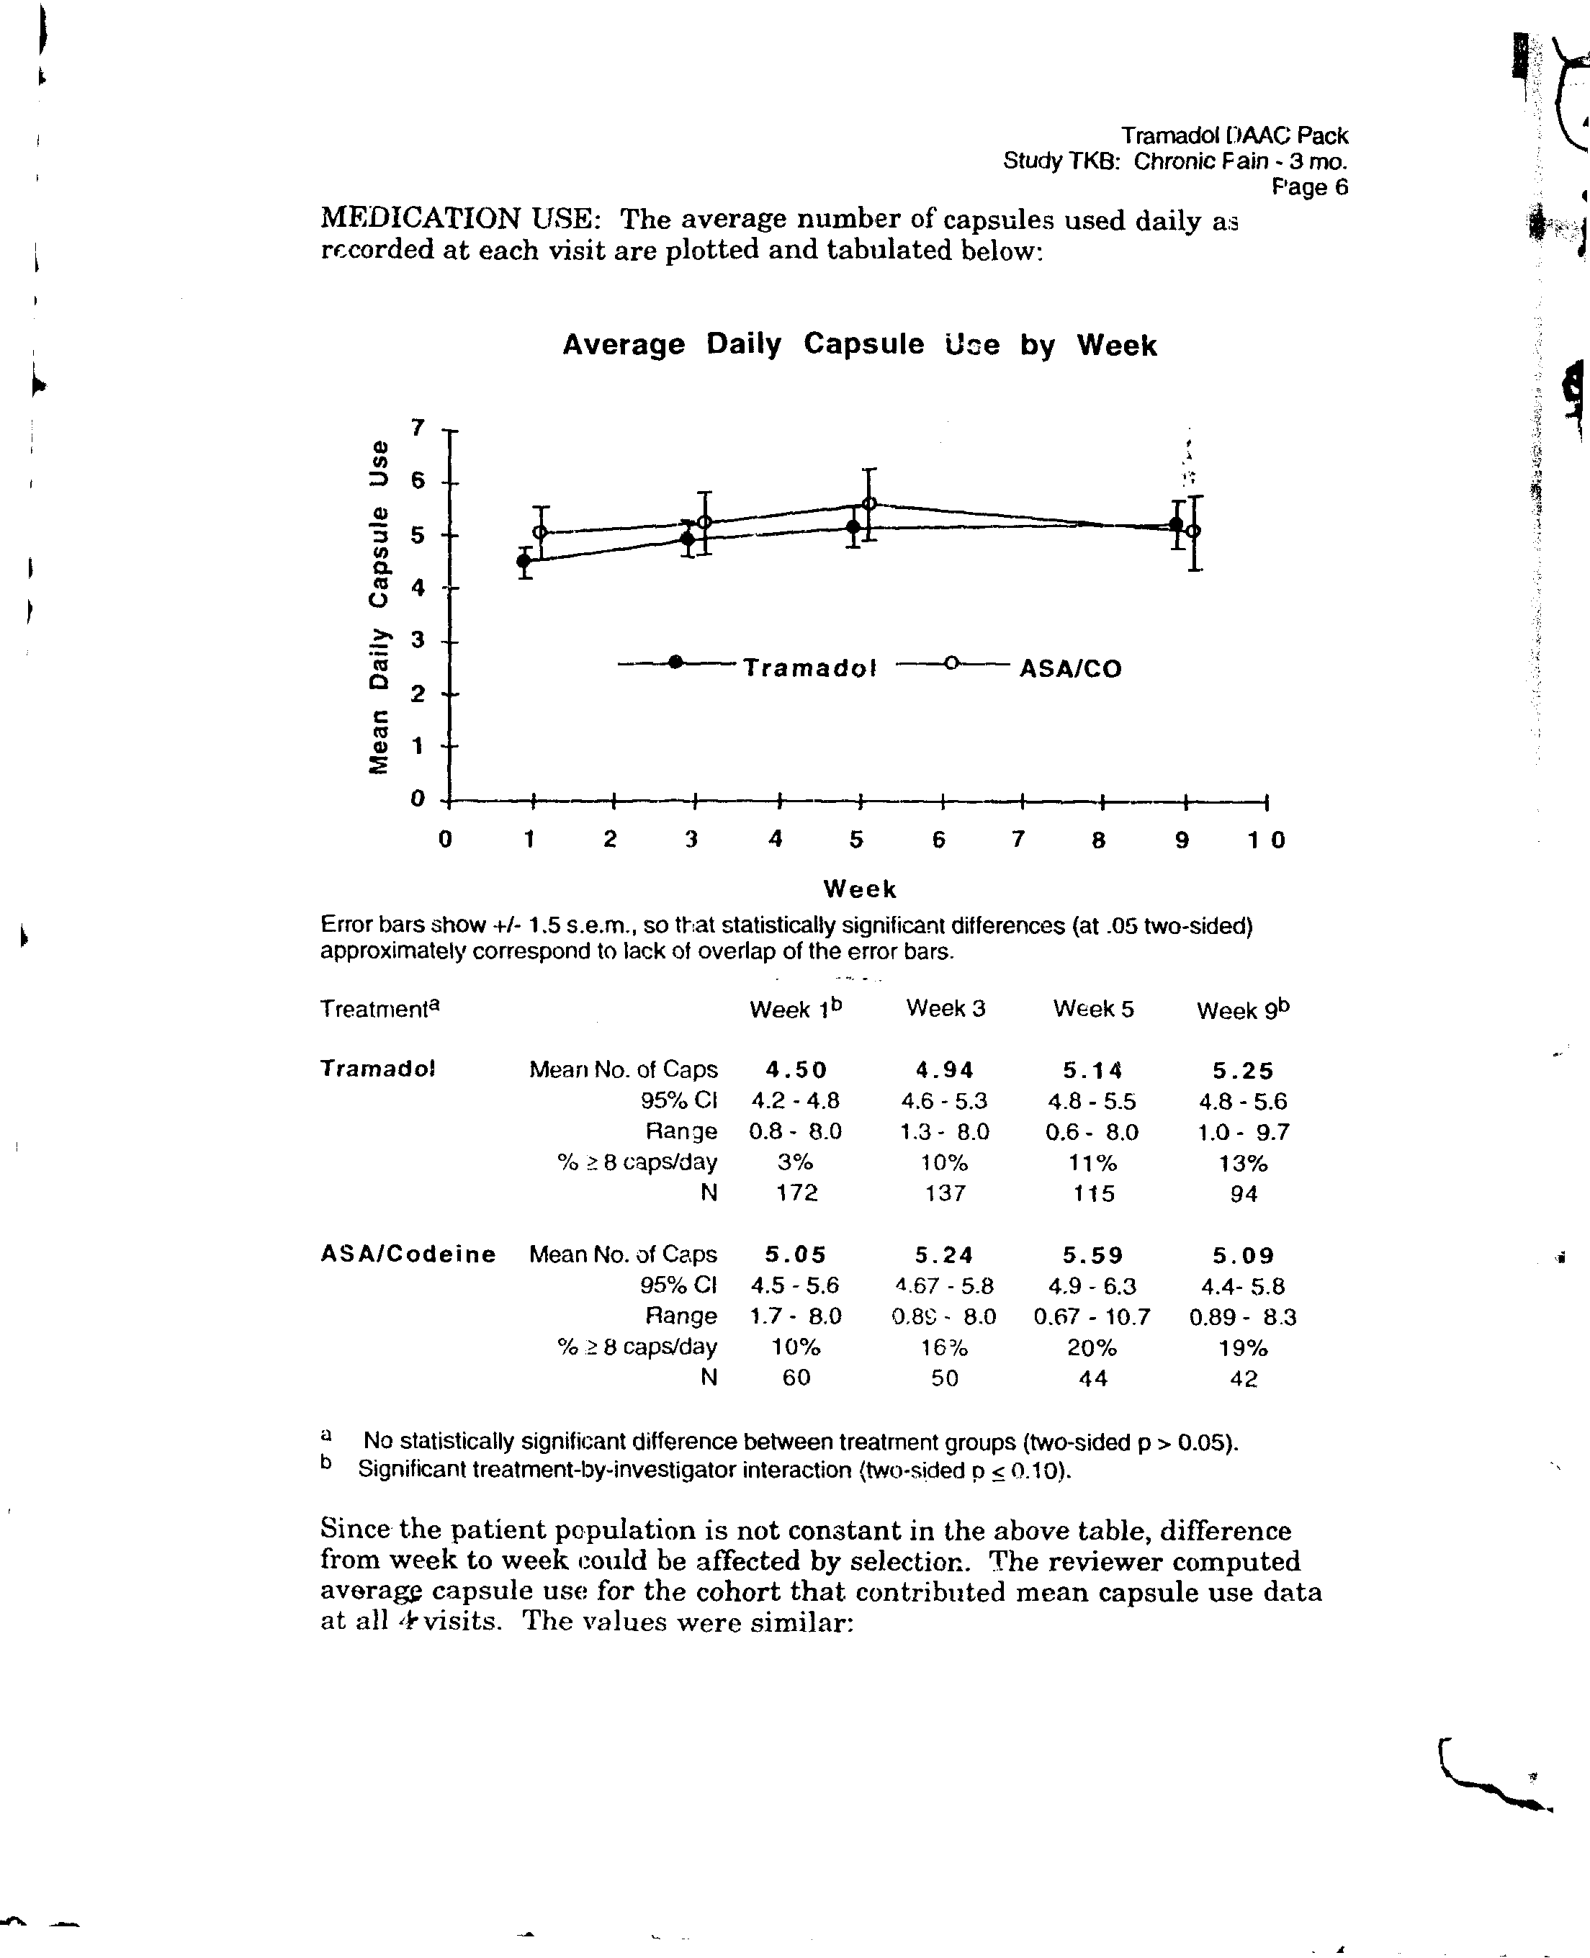nolines: (315, 993, 1300, 1390)
